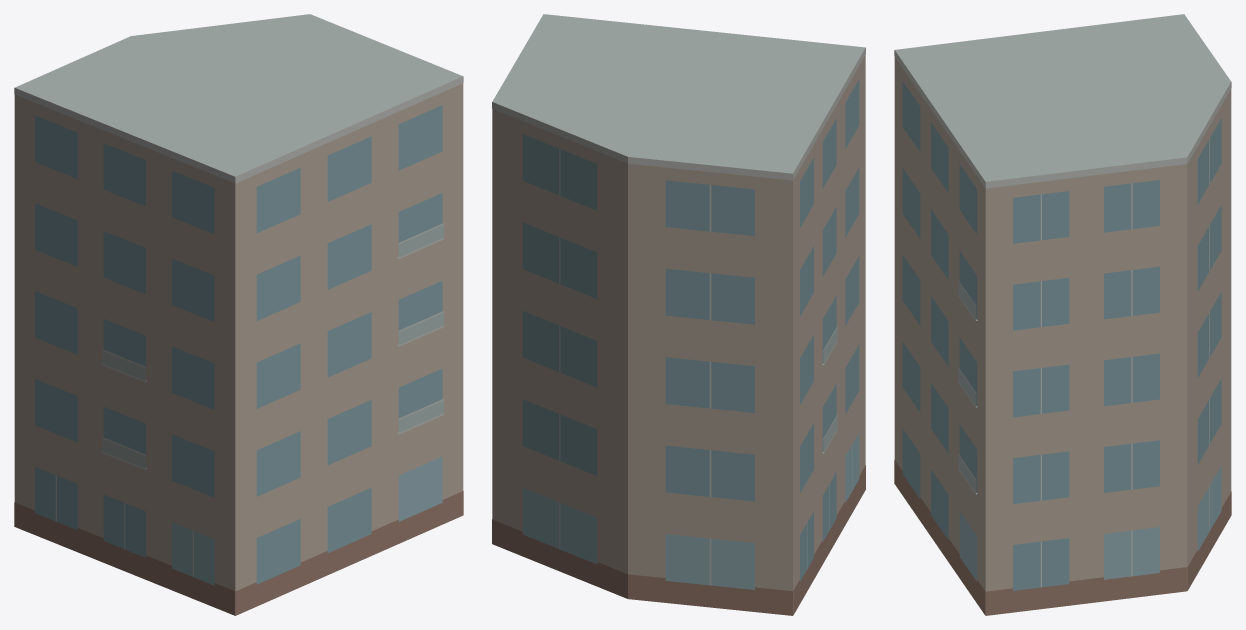
File: survey-upis-32875615.glb
The picture shows the model from 3 angles, left to right: view 1: azimuth 30°, elevation 25°; view 2: azimuth 150°, elevation 25°; view 3: azimuth 270°, elevation 25°; orthographic projection.
Parts seen in each view (by area): view 1: survey-upis-32875615.tmp; view 2: survey-upis-32875615.tmp; view 3: survey-upis-32875615.tmp.
Boxes of the visible parts, <box> form: survey-upis-32875615.tmp: <box>14,14,463,615</box>; survey-upis-32875615.tmp: <box>492,14,865,615</box>; survey-upis-32875615.tmp: <box>894,14,1231,615</box>.
Bounding box in the file's own units: 13.21 × 15.9 × 11.19.
